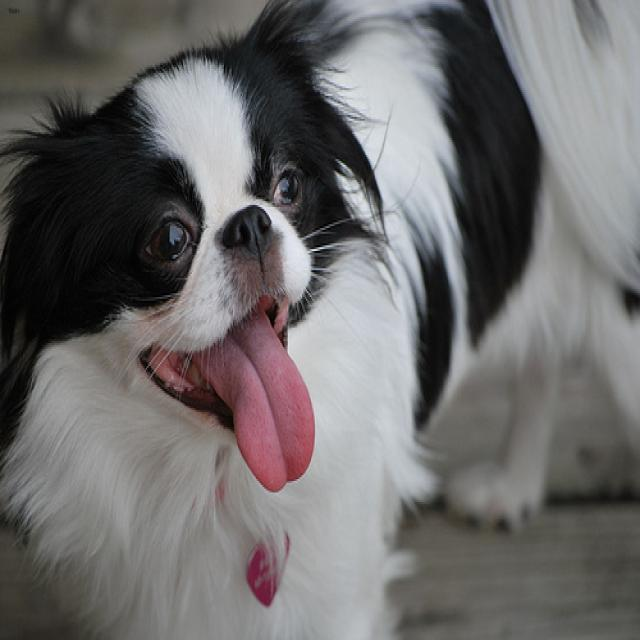dog-japanese_chin: (1, 2, 637, 636)
